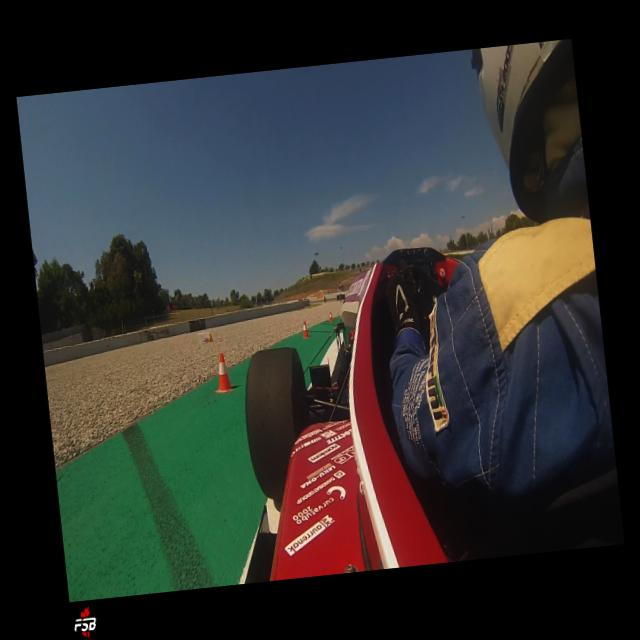orange_cone: (210, 351, 236, 393), (302, 320, 308, 338), (328, 311, 332, 321)
